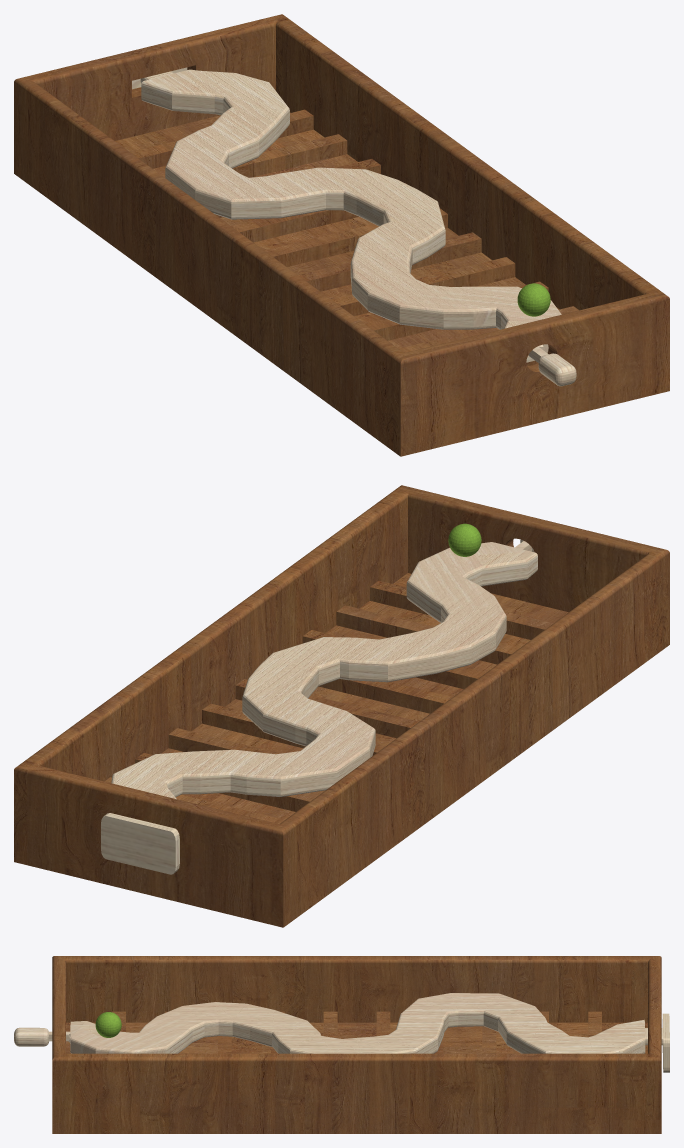
File: ZigZagTOUIL_Model.fbx
3 views of the same model, one above another, from view 1: azimuth 30°, elevation 25°; view 2: azimuth 150°, elevation 25°; view 3: azimuth 270°, elevation 25° (orthographic). The views are drawn at different scales.
Parts seen in each view (by area): view 1: Plateau, Chemin, Sphere; view 2: Plateau, Chemin, Sphere; view 3: Plateau, Chemin, Sphere.
Boxes of the visible parts, x1,y1,x2,y2 form: Plateau: [14, 14, 669, 456]; Chemin: [132, 67, 576, 386]; Sphere: [517, 283, 550, 316]; Plateau: [14, 485, 669, 927]; Chemin: [101, 539, 537, 874]; Sphere: [448, 523, 481, 556]; Plateau: [52, 956, 661, 1133]; Chemin: [14, 993, 669, 1072]; Sphere: [95, 1012, 121, 1037].
Size of the model in its own units: 185 by 68.44 by 495.
Materials: 3 (3 with a texture image).
